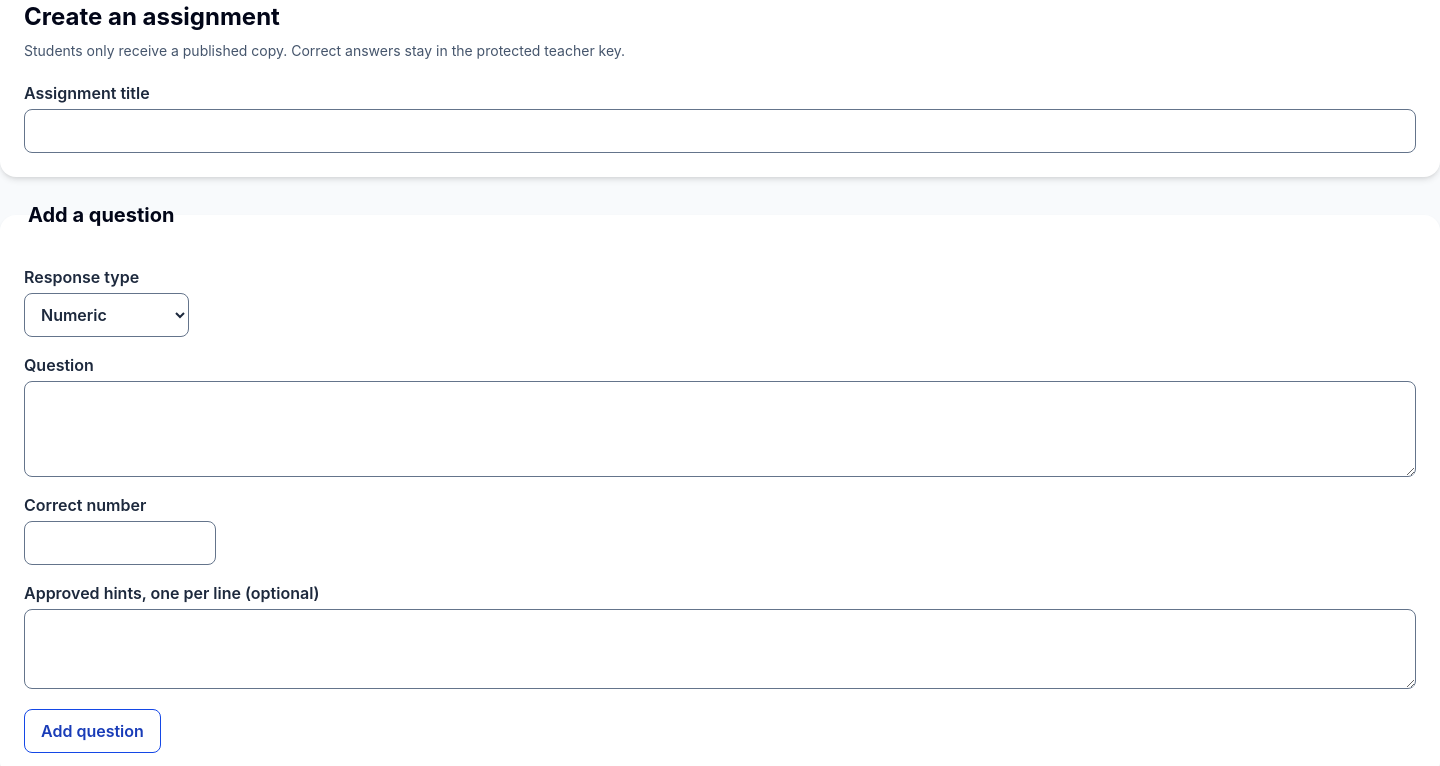
it: AssignmentAuthoringForm › blocks an incomplete multiple-choice question
Select "Multiple choice" in the dropdown labelled "Response type": (106, 315) [24, 293, 189, 337]
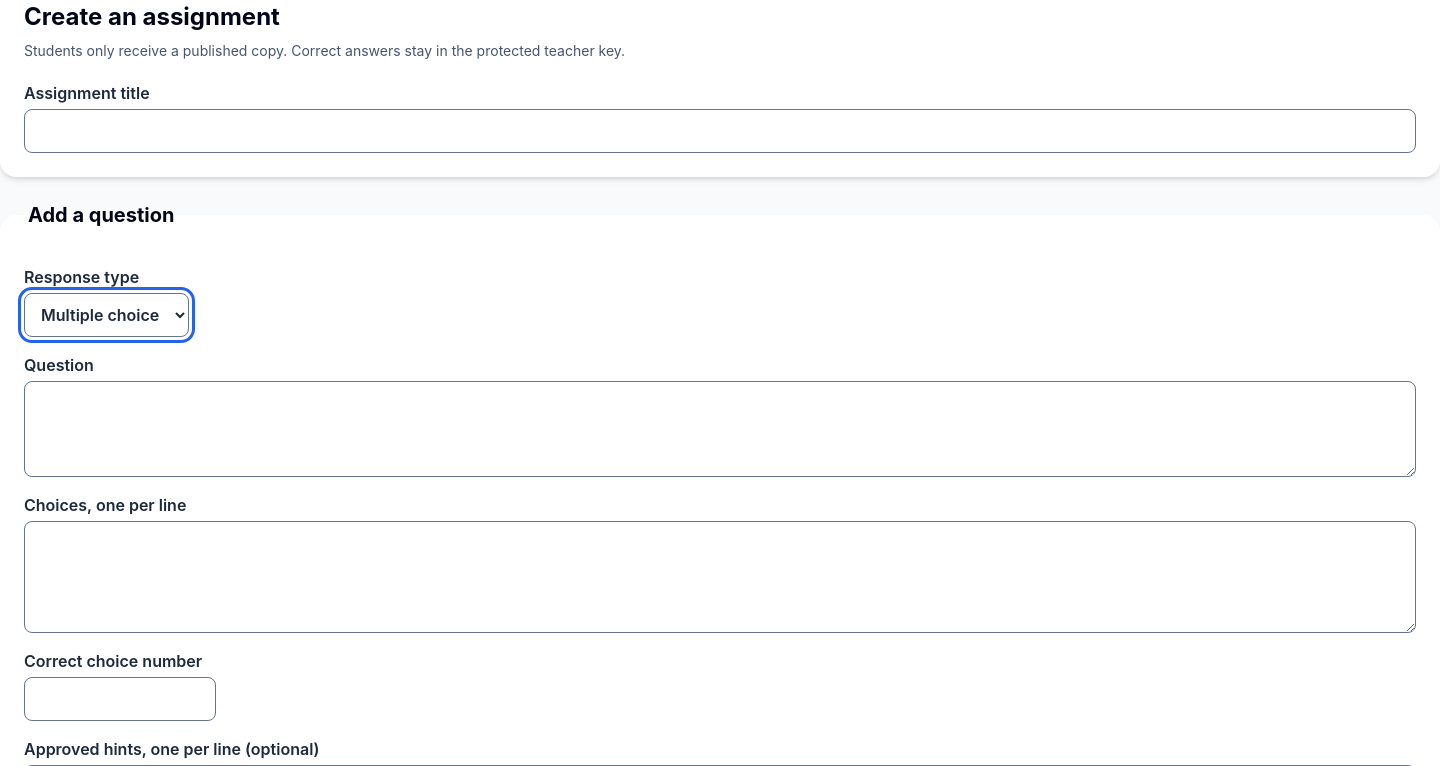
In the text box labelled "Question": (720, 429) [24, 381, 1416, 477], type "Choose the equivalent expression."
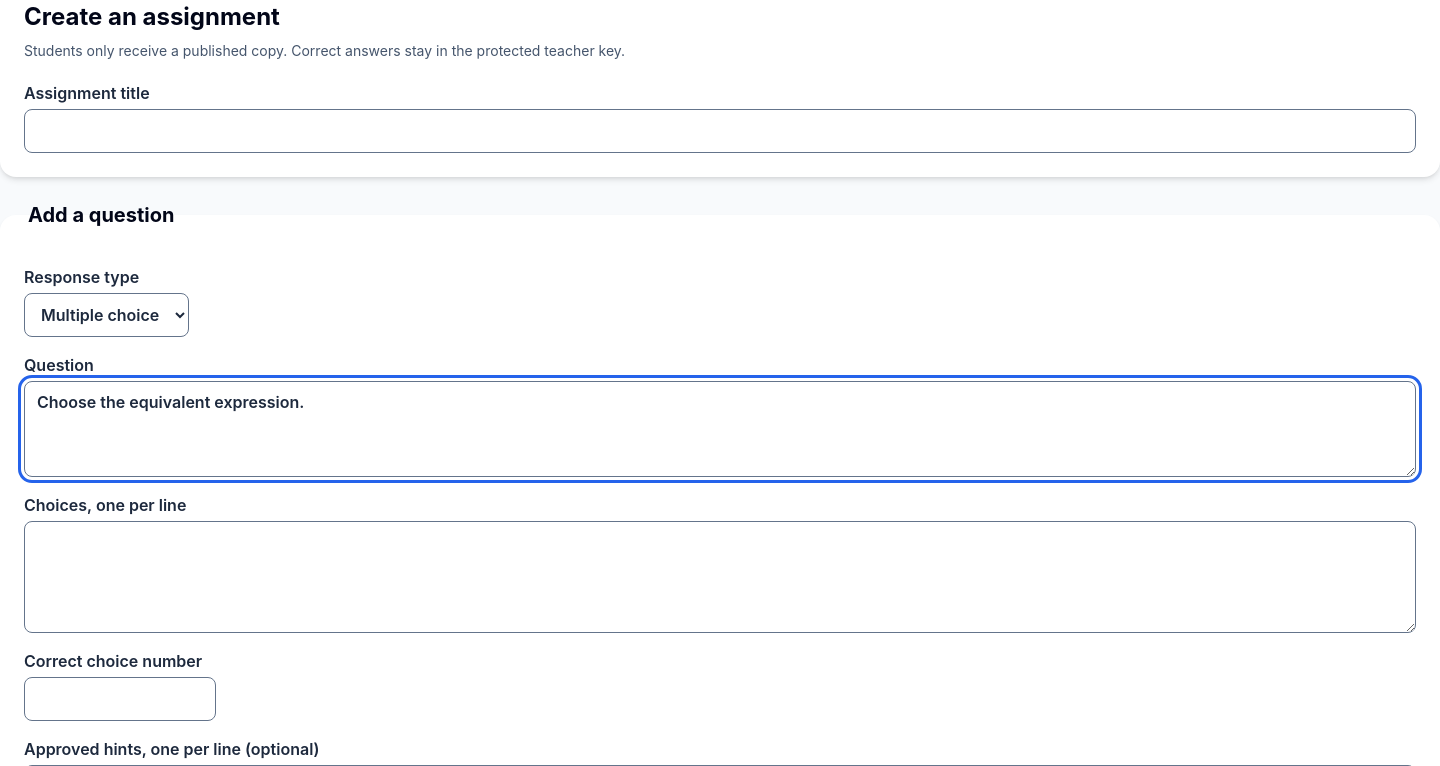
In the text box labelled "Choices, one per line": (720, 577) [24, 521, 1416, 633], type "7 + 5"
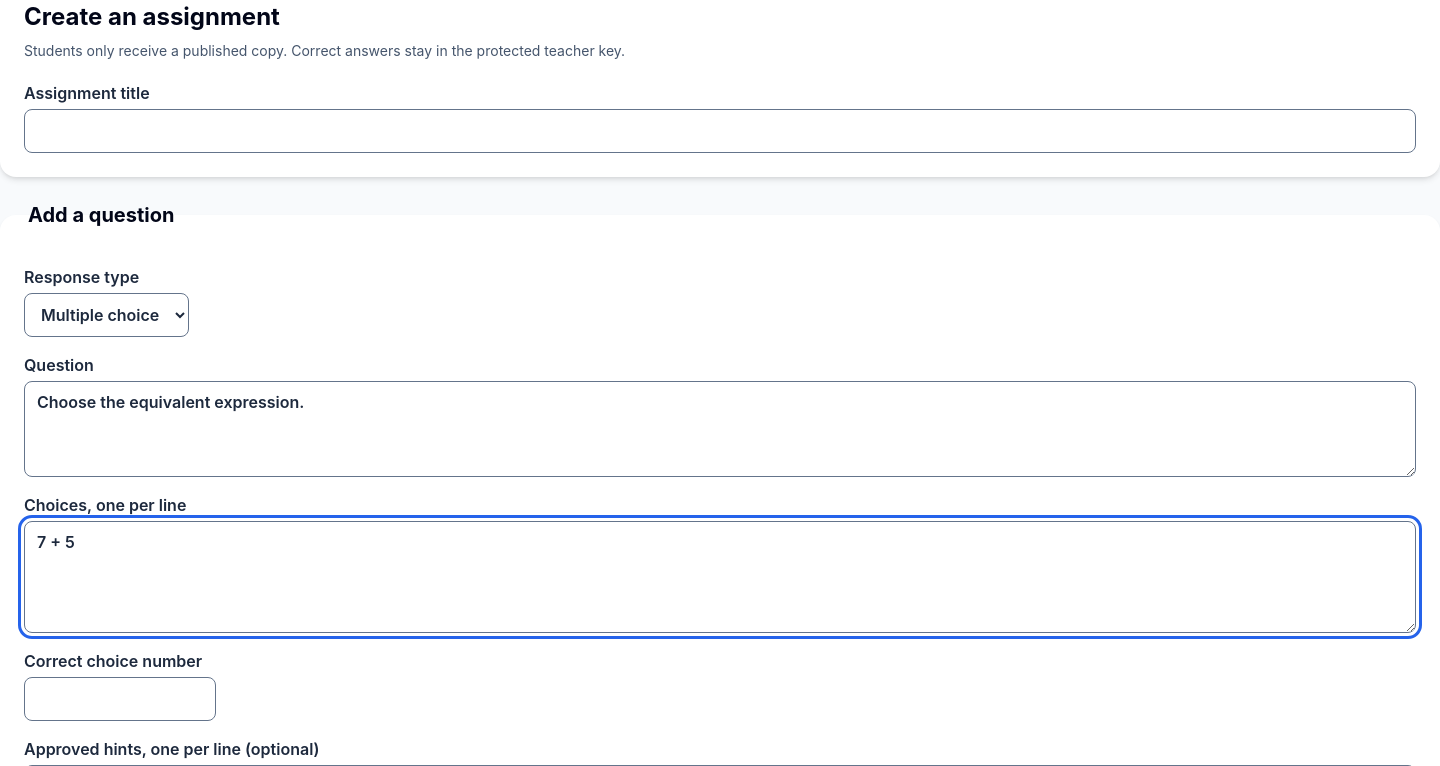
In the number field labelled "Correct choice number": (120, 699) [24, 677, 216, 721], type "2"
(page scrolled)
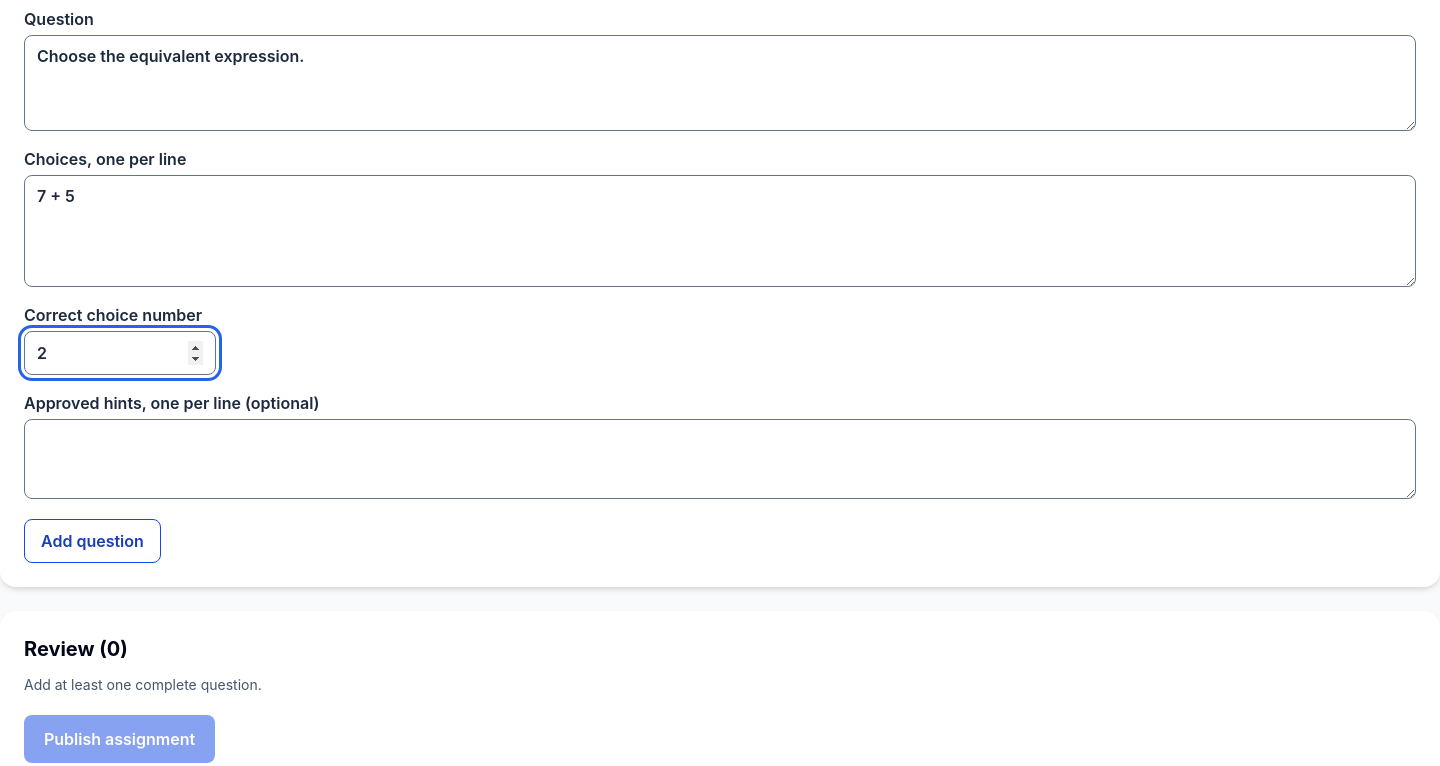
Click the button "Add question": (92, 541) [24, 519, 161, 563]
(page scrolled)
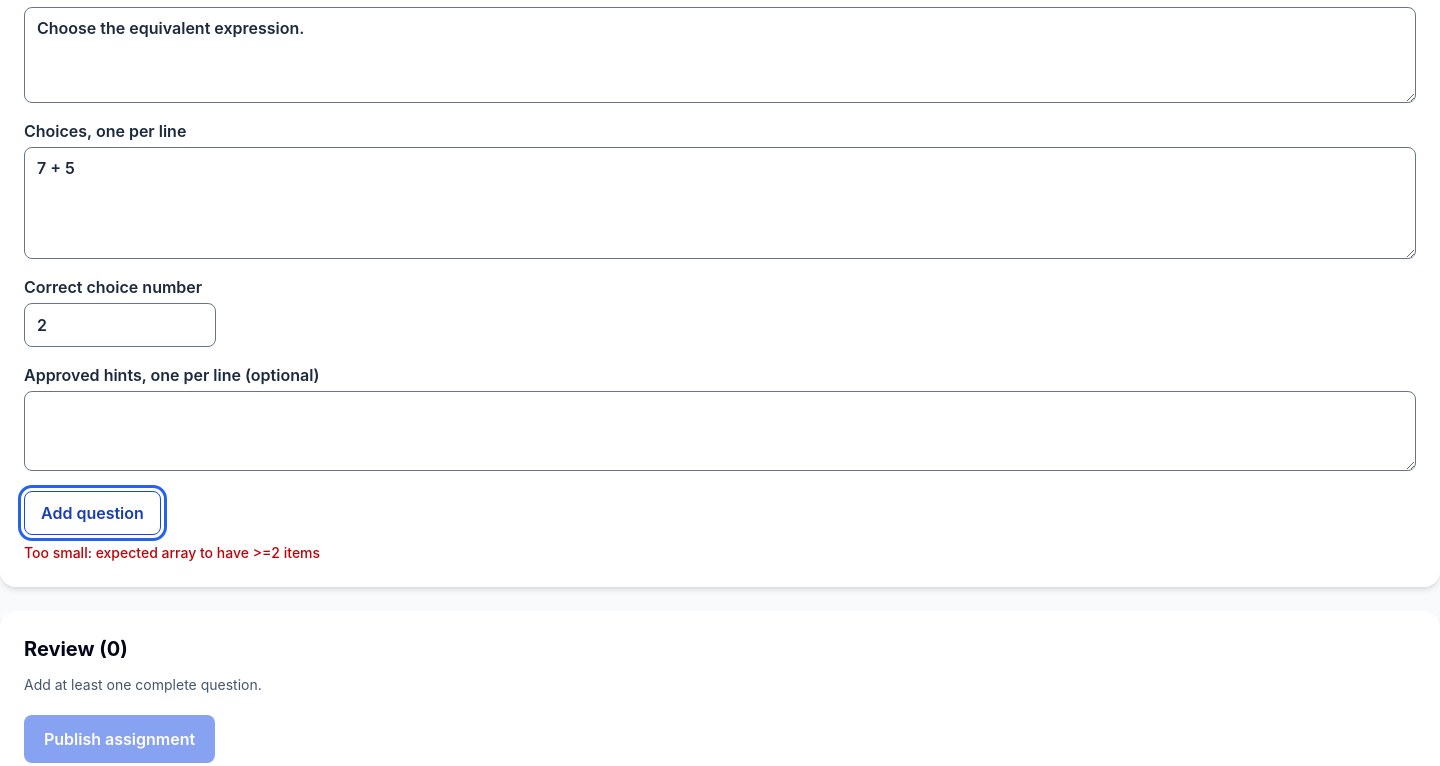
Expected: the heading "Review (0)" is shown, [24, 637, 128, 661]
Now the message reads "Too small: expected array to have >=2 items", box [24, 544, 320, 561]
